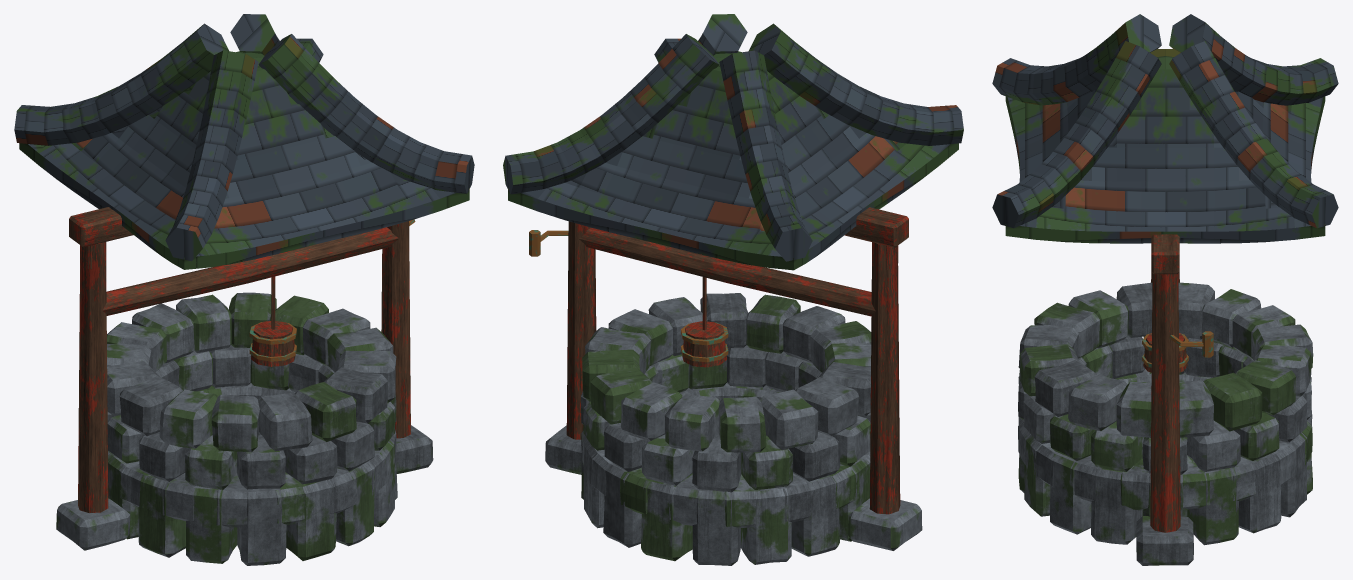
Rendered from Bell_Well.glb.
3 views of the same model, side by side, from view 1: azimuth 30°, elevation 25°; view 2: azimuth 150°, elevation 25°; view 3: azimuth 270°, elevation 25° (orthographic). The views are drawn at different scales.
Visible parts, largest first — view 1: Bell_Well__Stone, Bell_Well__Roof, Bell_Well__Timber, Bell_Well__Bronze; view 2: Bell_Well__Stone, Bell_Well__Roof, Bell_Well__Timber, Bell_Well__Bronze; view 3: Bell_Well__Roof, Bell_Well__Stone, Bell_Well__Timber, Bell_Well__Bronze.
Boxes of the visible parts, x1,y1,x2,y2 form: Bell_Well__Stone: (56,292,433,565); Bell_Well__Roof: (14,14,474,269); Bell_Well__Timber: (69,207,410,512); Bell_Well__Bronze: (249,219,415,361); Bell_Well__Stone: (545,293,922,565); Bell_Well__Roof: (503,14,963,270); Bell_Well__Timber: (566,207,908,514); Bell_Well__Bronze: (529,230,728,362); Bell_Well__Roof: (992,14,1338,243); Bell_Well__Stone: (1018,282,1313,565); Bell_Well__Timber: (1143,234,1187,532); Bell_Well__Bronze: (1142,331,1213,367).
Bounding box in the file's own units: 9.93 × 12.54 × 8.58.
4 materials, 4 textured.
